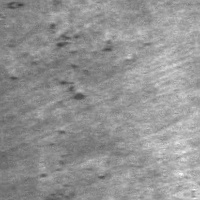rolled-in_scale: (47, 23, 128, 101)
